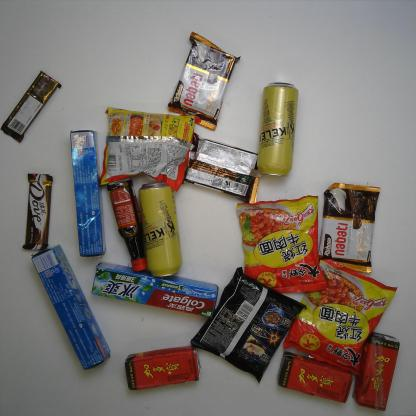Alcohol: (253, 80, 302, 178), (137, 177, 184, 279)
Chocolate: (0, 68, 62, 144), (20, 172, 53, 252)
Dessert: (165, 29, 242, 134), (176, 131, 266, 206), (314, 181, 382, 273)
Drink: (274, 350, 354, 404), (351, 331, 401, 413), (124, 344, 202, 392)
Instant Noodles: (188, 265, 307, 384), (283, 253, 397, 377), (235, 193, 328, 296), (96, 105, 204, 190)
Personal Hygiene: (31, 242, 111, 372), (90, 260, 220, 320), (69, 129, 108, 259)
Seasoner: (106, 175, 151, 274)
